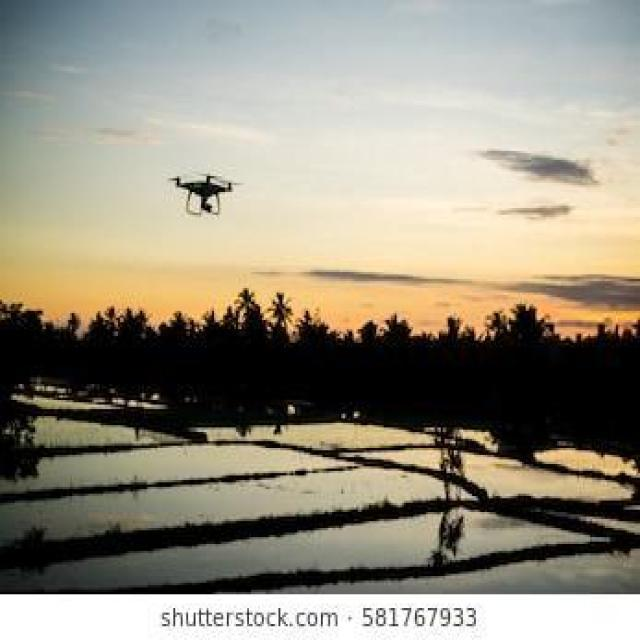drone: (165, 170, 239, 216)
